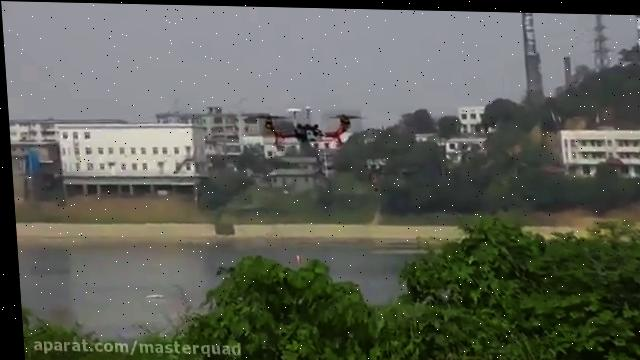drone: (252, 103, 370, 149)
